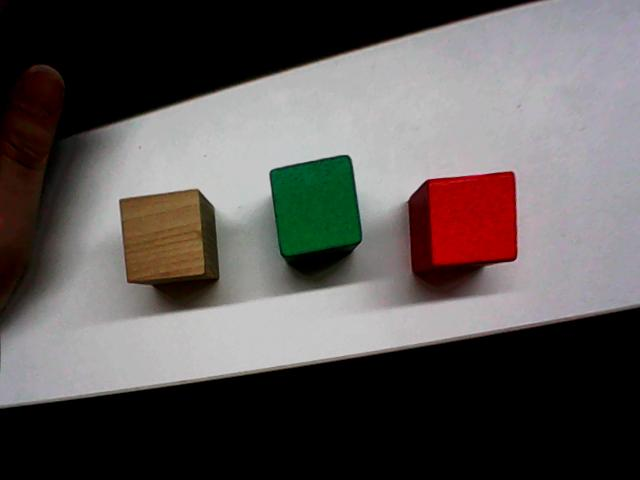green_box: (266, 151, 365, 265)
raw_box: (116, 185, 221, 287)
red_box: (405, 166, 521, 276)
